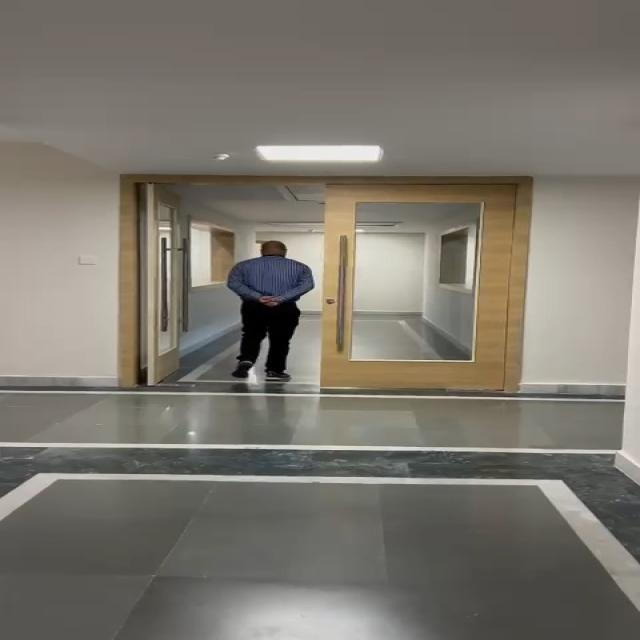door: (318, 177, 522, 402)
floor: (0, 385, 633, 640)
moving_object: (224, 230, 308, 392)
wall: (0, 115, 127, 379), (531, 159, 640, 391)
